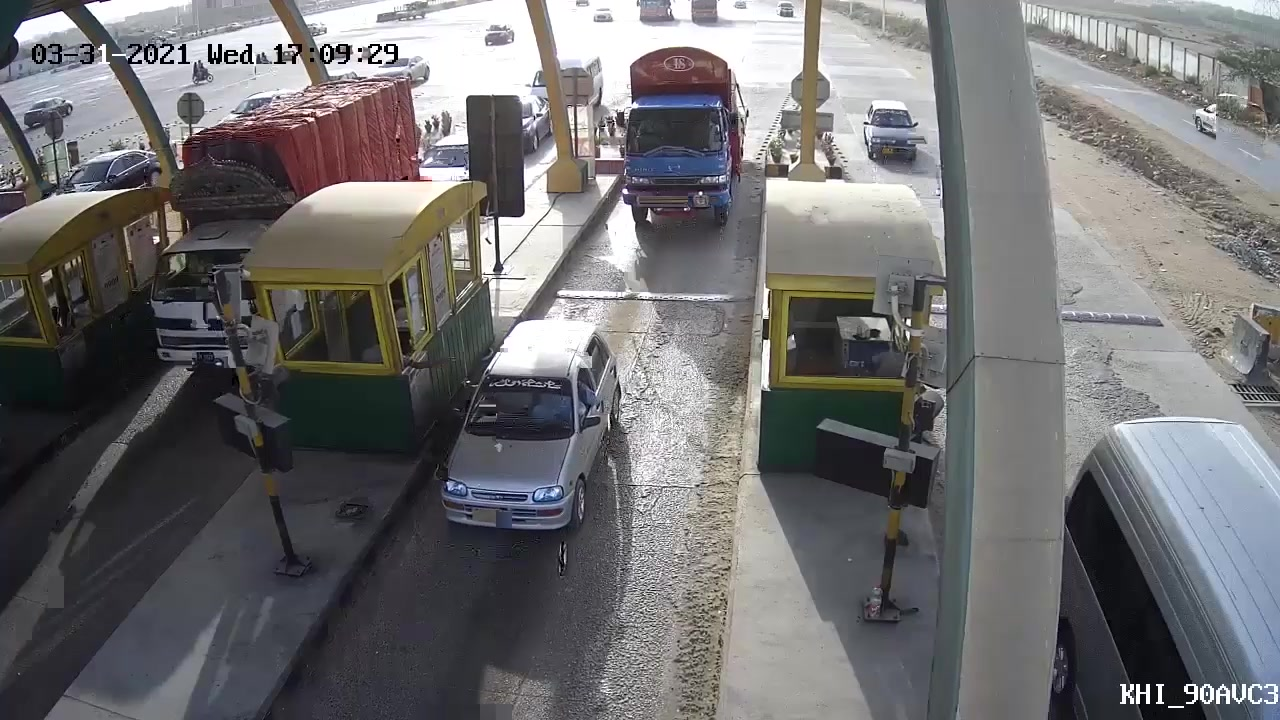F1: (437, 316, 622, 549)
F5: (598, 36, 755, 242)
